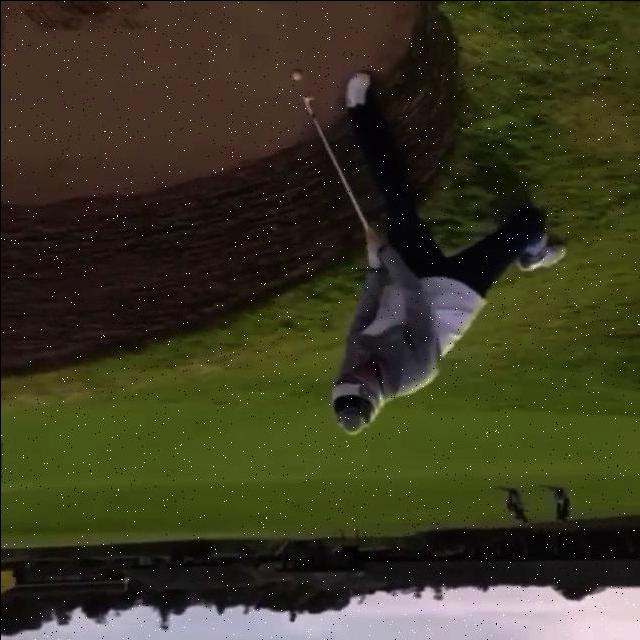golf ball: (291, 70, 300, 80)
golf club-handle: (302, 96, 366, 227)
golf club-head: (302, 95, 314, 102)
